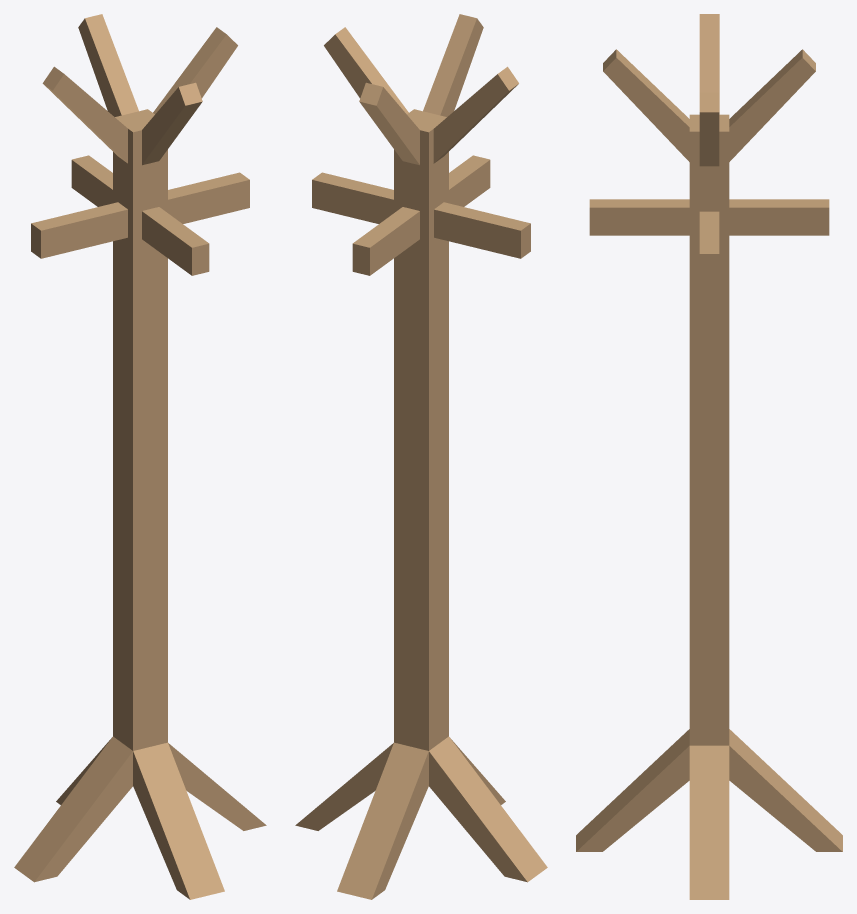
The model's file is coat-rack-standing.glb.
3 views of the same model, side by side, from view 1: azimuth 30°, elevation 25°; view 2: azimuth 150°, elevation 25°; view 3: azimuth 270°, elevation 25° (orthographic).
Visible parts, largest first — view 1: coat-rack-standing; view 2: coat-rack-standing; view 3: coat-rack-standing.
Part boxes in pixels (<box>): coat-rack-standing: <box>14,14,266,899</box>; coat-rack-standing: <box>295,14,547,899</box>; coat-rack-standing: <box>576,14,842,899</box>.
Size of the model in its own units: 0.52 by 1.7 by 0.52.
